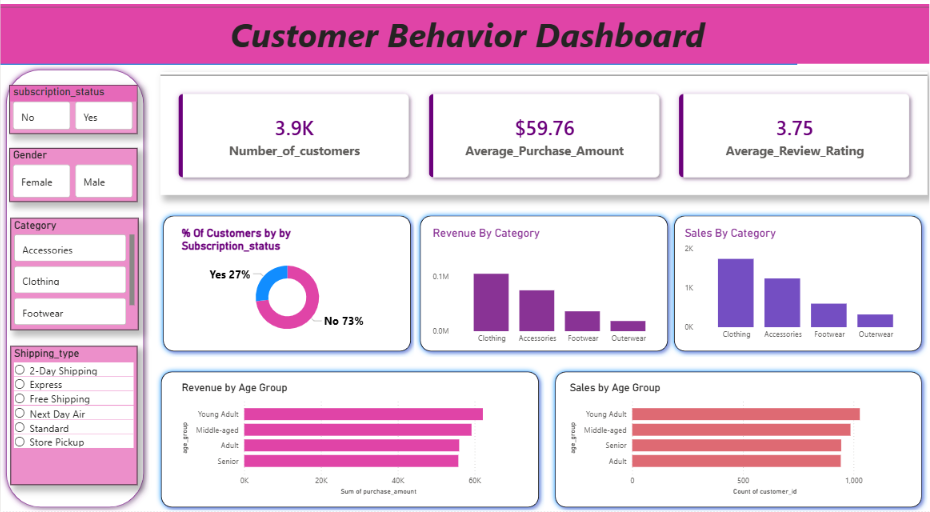

The dashboard page shown, as its layout file describes it:
{"tool":"powerbi","page":{"name":"Page 1","canvas":[1500,830],"ordinal":0},"visuals":[{"type":"cardVisual","fields":{"Data":["customer_behavior customer_behavior.Number_of_customers","customer_behavior customer_behavior.Average_Purchase_Amount","customer_behavior customer_behavior.Average_Review_Rating"]},"box":[257,122.1,1232.1,197.6],"z":0},{"type":"shape","box":[0,12.3,1280.3,97.4],"z":1000},{"type":"textbox","box":[0,12.9,1500.3,96.4],"z":2000},{"type":"shape","box":[252.2,343.8,416,236.1],"z":3000},{"type":"donutChart","title":"% Of Customers by by Subscription_status","fields":{"Category":["customer_behavior customer_behavior.subscription_status"],"Y":["CountNonNull(customer_behavior customer_behavior.customer_id)"]},"box":[285.9,369.5,350.2,184.7],"z":4000},{"type":"shape","box":[665,343.8,416,236.1],"z":5000},{"type":"shape","box":[1073,343.8,416,236.1],"z":6000},{"type":"clusteredColumnChart","title":"Revenue By Category","fields":{"Category":["customer_behavior customer_behavior.category"],"Y":["Sum(customer_behavior customer_behavior.purchase_amount)"]},"box":[689.1,369.5,383.9,199.2],"z":7000},{"type":"clusteredColumnChart","title":"Sales By Category","fields":{"Category":["customer_behavior customer_behavior.category"],"Y":["CountNonNull(customer_behavior customer_behavior.purchase_amount)"]},"box":[1093.9,369.5,377.5,192.8],"z":8000},{"type":"shape","box":[0,109.2,239.3,721.2],"z":9000},{"type":"advancedSlicerVisual","fields":{"Values":["customer_behavior customer_behavior.subscription_status"]},"box":[14.5,143,205.6,78.7],"z":10000},{"type":"advancedSlicerVisual","fields":{"Values":["customer_behavior customer_behavior.gender"]},"box":[14.5,244.2,205.6,86.7],"z":11000},{"type":"advancedSlicerVisual","fields":{"Values":["customer_behavior customer_behavior.category"]},"box":[16.1,356.6,205.6,179.9],"z":12000},{"type":"listSlicer","fields":{"Values":["customer_behavior customer_behavior.shipping_type"]},"box":[16.1,562.2,204,223.3],"z":13000},{"type":"shape","box":[249,594.3,624.9,236.1],"z":14000},{"type":"shape","box":[881.9,594.3,607.2,236.1],"z":15000},{"type":"clusteredBarChart","title":"Sales by Age Group","fields":{"Category":["customer_behavior customer_behavior.age_group"],"Y":["CountNonNull(customer_behavior customer_behavior.customer_id)"]},"box":[909.2,618.4,552.6,187.9],"z":16000},{"type":"clusteredBarChart","title":"Revenue by Age Group","fields":{"Y":["Sum(customer_behavior customer_behavior.purchase_amount)"],"Category":["customer_behavior customer_behavior.age_group"]},"box":[285.9,618.4,552.6,187.9],"z":17000}]}

Visuals, with their boxes in screenshot pixels (x1, y1, x2, y2), scaled from the page's 1500x830 canvas onto the 930x512 screenshot:
cardVisual - customer_behavior customer_behavior.Number_of_customers x customer_behavior customer_behavior.Average_Purchase_Amount: box=[159, 75, 923, 197]
shape: box=[0, 8, 794, 68]
textbox: box=[0, 8, 929, 67]
shape: box=[156, 212, 414, 358]
"% Of Customers by by Subscription_status" donutChart: box=[177, 228, 394, 342]
shape: box=[412, 212, 670, 358]
shape: box=[665, 212, 923, 358]
"Revenue By Category" clusteredColumnChart: box=[427, 228, 665, 351]
"Sales By Category" clusteredColumnChart: box=[678, 228, 912, 347]
shape: box=[0, 67, 148, 511]
advancedSlicerVisual - customer_behavior customer_behavior.subscription_status: box=[9, 88, 136, 137]
advancedSlicerVisual - customer_behavior customer_behavior.gender: box=[9, 151, 136, 204]
advancedSlicerVisual - customer_behavior customer_behavior.category: box=[10, 220, 137, 331]
listSlicer - customer_behavior customer_behavior.shipping_type: box=[10, 347, 136, 485]
shape: box=[154, 367, 542, 511]
shape: box=[547, 367, 923, 511]
"Sales by Age Group" clusteredBarChart: box=[564, 381, 906, 497]
"Revenue by Age Group" clusteredBarChart: box=[177, 381, 520, 497]
